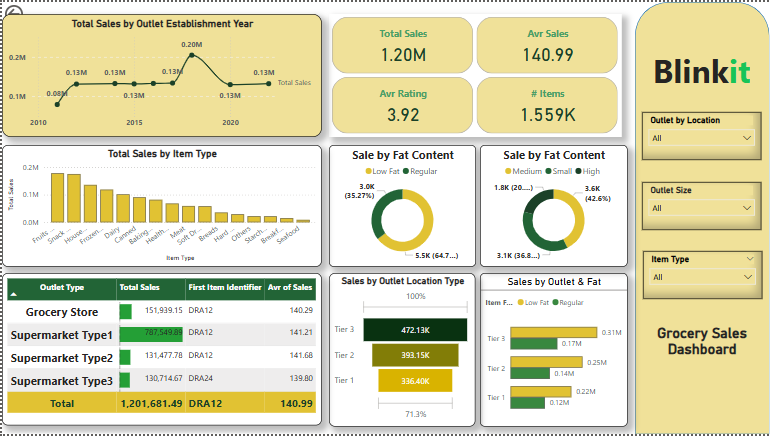

This screenshot's page, from the dashboard's own definition file:
{"tool":"powerbi","page":{"name":"Page 1","canvas":[1280,720],"ordinal":0},"visuals":[{"type":"shape","box":[1055.2,0,224.1,720.7],"z":0},{"type":"textbox","box":[1067.2,72.4,198.3,86.2],"z":1000},{"type":"actionButton","box":[0,0,100,40],"z":2000},{"type":"cardVisual","fields":{"Data":["Sum(BlinkIT-Grocery-Data.Sales)","Avg(BlinkIT-Grocery-Data.Sales)","Avg(BlinkIT-Grocery-Data.Rating)","Count(BlinkIT-Grocery-Data.Item Identifier)"]},"box":[544.8,20.7,487.9,205.2],"z":3000},{"type":"lineChart","fields":{"Category":["BlinkIT-Grocery-Data.Outlet Establishment Year"],"Y":["BlinkIT-Grocery-Data.Total Sales"]},"box":[0,20.7,532.8,205.2],"z":4000},{"type":"donutChart","title":"Sale by Fat Content","fields":{"Y":["CountNonNull(BlinkIT-Grocery-Data.Outlet Identifier)"],"Category":["BlinkIT-Grocery-Data.Item Fat Content"]},"box":[544.8,237.9,244.8,203.4],"z":5000},{"type":"clusteredBarChart","title":"Sales by Outlet & Fat","fields":{"Y":["BlinkIT-Grocery-Data.Total Sales"],"Category":["BlinkIT-Grocery-Data.Outlet Location Type"],"Series":["BlinkIT-Grocery-Data.Item Fat Content"]},"box":[797.1,451.4,245.7,255.7],"z":6000},{"type":"clusteredColumnChart","fields":{"Category":["BlinkIT-Grocery-Data.Item Type"],"Y":["BlinkIT-Grocery-Data.Total Sales"]},"box":[0,238.6,532.9,202.9],"z":7000},{"type":"funnel","title":"Sales by Outlet Location Type","fields":{"Y":["BlinkIT-Grocery-Data.Total Sales"],"Category":["BlinkIT-Grocery-Data.Outlet Location Type"]},"box":[544.3,451.4,244.3,255.7],"z":8000},{"type":"pivotTable","fields":{"Rows":["BlinkIT-Grocery-Data.Outlet Type"],"Values":["BlinkIT-Grocery-Data.Total Sales","Min(BlinkIT-Grocery-Data.Item Identifier)","Avg(BlinkIT-Grocery-Data.Sales)"]},"box":[0,451.4,532.9,254],"z":9000},{"type":"donutChart","title":"Sale by Fat Content","fields":{"Category":["BlinkIT-Grocery-Data.Outlet Size"],"Y":["CountNonNull(BlinkIT-Grocery-Data.Outlet Identifier)"]},"box":[797.1,238.6,245.7,202.9],"z":10000},{"type":"slicer","fields":{"Values":["BlinkIT-Grocery-Data.Outlet Location Type"]},"box":[1067.1,182.9,198.6,80],"z":11000},{"type":"slicer","fields":{"Values":["BlinkIT-Grocery-Data.Outlet Size"]},"box":[1067.1,300,198.6,80],"z":12000},{"type":"slicer","fields":{"Values":["BlinkIT-Grocery-Data.Item Type"]},"box":[1068.6,414.3,198.6,80],"z":13000},{"type":"textbox","title":"Grocery Sales Dashboard","box":[1068.6,538,197.1,143],"z":14000}]}

Visuals, with their boxes in screenshot pixels (x1, y1, x2, y2), scaled from the page's 1280x720 canvas onto the 770x436 screenshot:
shape: l=635, t=0, r=769, b=435
textbox: l=642, t=44, r=761, b=96
actionButton: l=0, t=0, r=60, b=24
cardVisual - Sum(BlinkIT-Grocery-Data.Sales) x Avg(BlinkIT-Grocery-Data.Sales): l=328, t=13, r=621, b=137
lineChart - BlinkIT-Grocery-Data.Outlet Establishment Year x BlinkIT-Grocery-Data.Total Sales: l=0, t=13, r=321, b=137
"Sale by Fat Content" donutChart: l=328, t=144, r=475, b=267
"Sales by Outlet & Fat" clusteredBarChart: l=480, t=273, r=627, b=428
clusteredColumnChart - BlinkIT-Grocery-Data.Item Type x BlinkIT-Grocery-Data.Total Sales: l=0, t=144, r=321, b=267
"Sales by Outlet Location Type" funnel: l=327, t=273, r=474, b=428
pivotTable - BlinkIT-Grocery-Data.Outlet Type x BlinkIT-Grocery-Data.Total Sales: l=0, t=273, r=321, b=427
"Sale by Fat Content" donutChart: l=480, t=144, r=627, b=267
slicer - BlinkIT-Grocery-Data.Outlet Location Type: l=642, t=111, r=761, b=159
slicer - BlinkIT-Grocery-Data.Outlet Size: l=642, t=182, r=761, b=230
slicer - BlinkIT-Grocery-Data.Item Type: l=643, t=251, r=762, b=299
"Grocery Sales Dashboard" textbox: l=643, t=326, r=761, b=412
